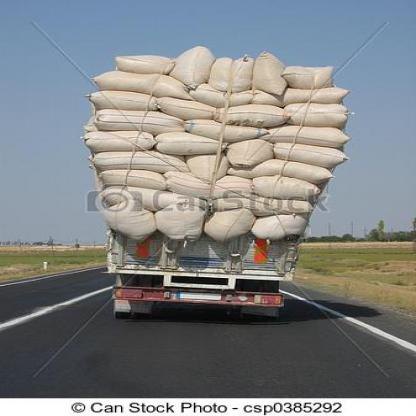overloaded-truck: (76, 46, 351, 247)
